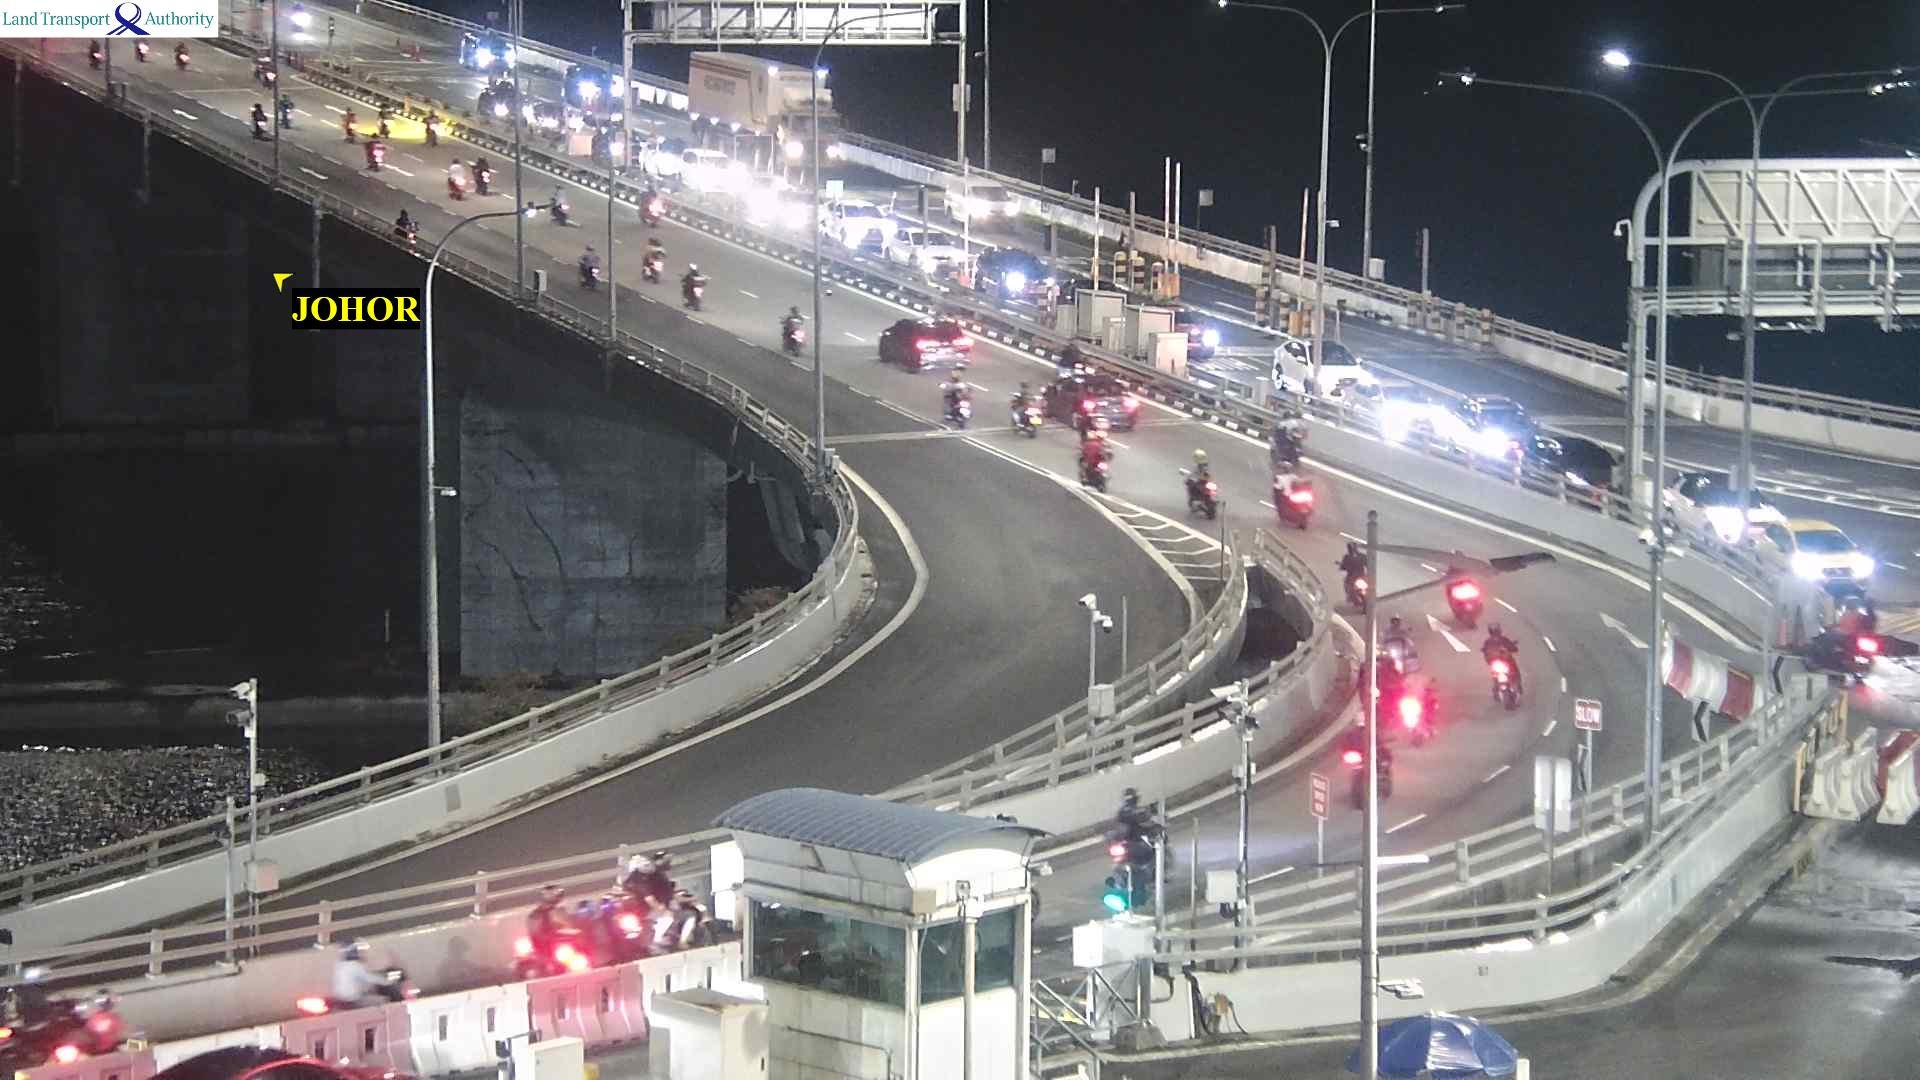vehicle-secondlink-johor: (296, 940, 411, 1009), (153, 1044, 355, 1080), (625, 857, 692, 943), (67, 990, 132, 1065), (543, 893, 603, 974), (1, 958, 38, 1074), (880, 321, 957, 373), (1115, 791, 1169, 865), (527, 885, 572, 966), (1379, 617, 1412, 714), (1352, 716, 1389, 780), (1344, 540, 1378, 607), (1090, 386, 1137, 433), (1273, 480, 1314, 530), (1183, 460, 1217, 517), (1490, 626, 1518, 695), (1075, 434, 1112, 486), (938, 380, 976, 427), (303, 927, 362, 956), (684, 258, 713, 314), (645, 223, 669, 290), (447, 162, 478, 208), (1452, 573, 1481, 618), (785, 314, 817, 354), (1014, 388, 1041, 432), (573, 244, 598, 286), (245, 104, 273, 139), (473, 152, 495, 192), (342, 100, 361, 140), (397, 200, 416, 239), (253, 53, 275, 81), (368, 138, 382, 166)
vehicle-secondlink-singapore: (629, 44, 828, 145), (1754, 519, 1881, 582), (1658, 473, 1765, 543), (1813, 612, 1920, 673), (1337, 385, 1460, 428), (1276, 339, 1374, 392), (973, 254, 1063, 298), (644, 149, 755, 184), (867, 238, 980, 271), (1537, 438, 1599, 491), (1456, 398, 1540, 434), (812, 206, 897, 240), (672, 151, 741, 178), (565, 69, 613, 101), (819, 200, 887, 219), (483, 48, 508, 71)
